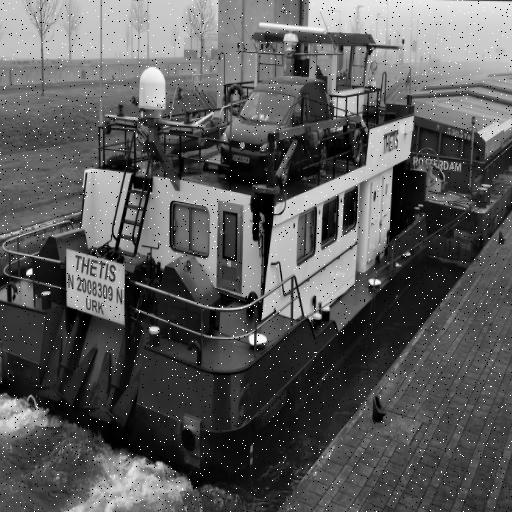tugboat: (1, 17, 434, 499)
